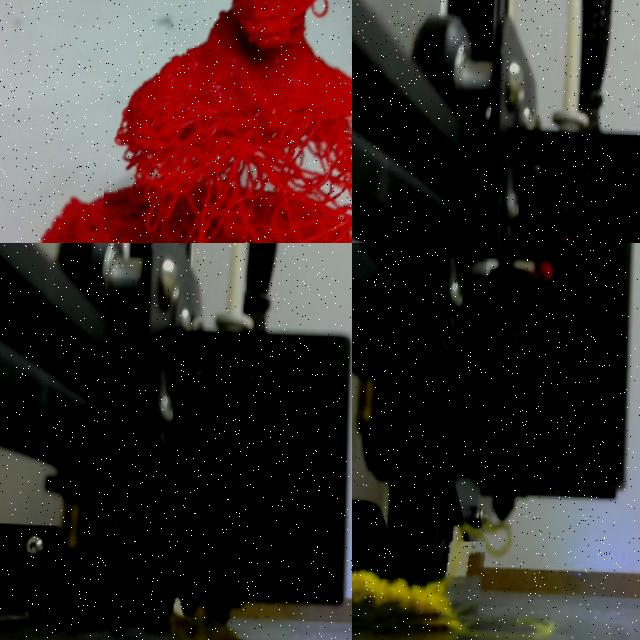spaghetti: (104, 107, 352, 243), (352, 570, 478, 624), (170, 604, 241, 640), (454, 520, 511, 555)
